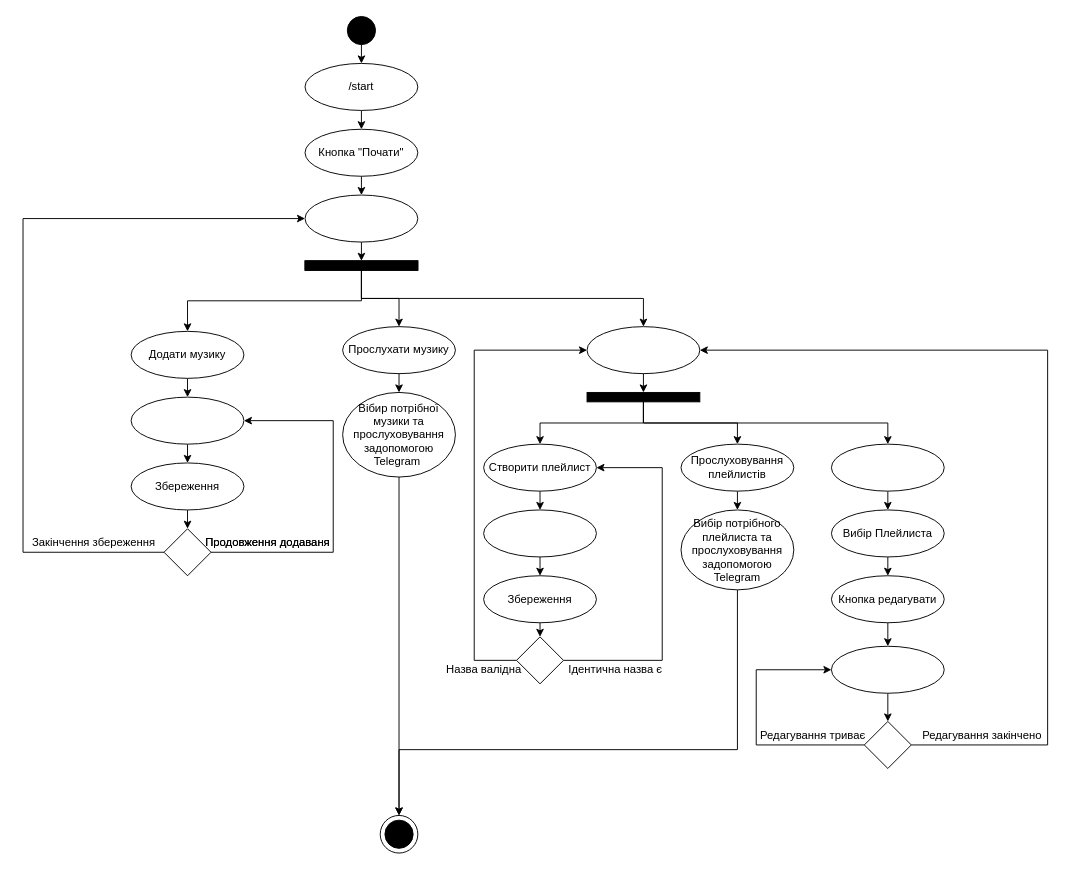
The diagram is 1072 pixels wide and 870 high, and some of its shapes have lost their labels. The shapes that lost their labels are listed below. From the top down, each one's centre as x and y in pixels, then its label:
At [361,218]: "Головне меню".
At [643,350]: "Плейлисти".
At [187,420]: "Додати файл".
At [887,467]: "Редагування плейлистів".
At [539,533]: "Написати назву плейлиста".
At [887,669]: "Вибір музики для додавання або видалення".
